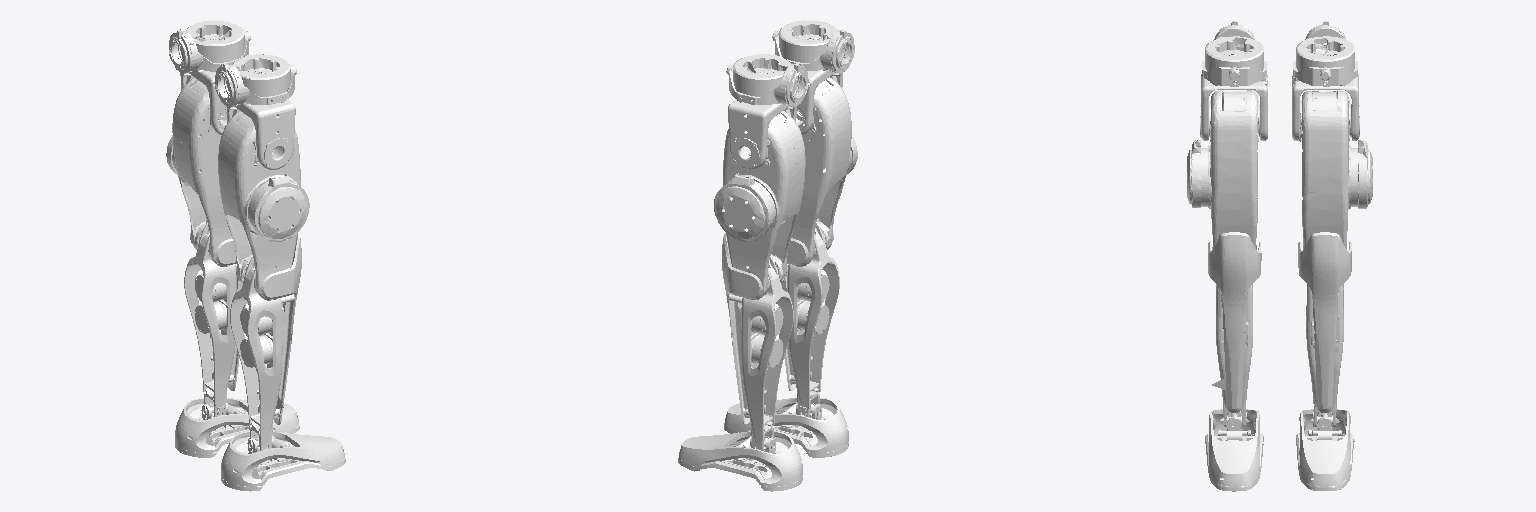
robot.urdf — biped_s31:
<?xml version='1.0' encoding='utf-8'?>
<robot name="biped_s31">
  <mujoco>
    <compiler meshdir="../meshes/" balanceinertia="true" discardvisual="false" />
  </mujoco>
  <link name="dummy_link" />
  <link name="base_link">
    <inertial>
      <origin xyz="-0.00505 0.0014 0.18077" rpy="0 0 0" />
      <mass value="25.4544" />
      <inertia ixx="0.28214" ixy="3e-05" ixz="0.01114" iyy="0.20534" iyz="0.00044" izz="0.13735" />
    </inertial>
    <visual>
      <origin xyz="0 0 0" rpy="0 0 0" />
      <geometry>
        <mesh filename="package://kuavo_assets/models/biped_s41/meshes/base_link.STL" />
      </geometry>
      <material name="">
        <color rgba="1 1 1 1" />
      </material>
    </visual>
  </link>
  <joint name="dummy_to_base_link" type="fixed">
    <origin xyz="0 0 0" rpy="0 0 0" />
    <parent link="dummy_link" />
    <child link="base_link" />
  </joint>
  <link name="leg_l1_link">
    <inertial>
      <origin xyz="-0.00430148 -2.708e-05 -0.00851195" rpy="0 0 0" />
      <mass value="1.71093115" />
      <inertia ixx="0.00206092" ixy="1.97e-06" ixz="6.944e-05" iyy="0.00277274" iyz="-5.1e-06" izz="0.00370826" />
    </inertial>
    <visual>
      <origin xyz="0 0 0" rpy="0 0 0" />
      <geometry>
        <mesh filename="package://kuavo_assets/models/biped_s41/meshes/l_leg_roll.STL" />
      </geometry>
      <material name="">
        <color rgba="1 1 1 1" />
      </material>
    </visual>
  </link>
  <joint name="leg_l1_joint" type="revolute">
    <origin xyz="-0.0025 0.087 -0.066" rpy="0 0 0" />
    <parent link="base_link" />
    <child link="leg_l1_link" />
    <axis xyz="1 0 0" />
    <limit lower="-0.314159265358979" upper="0.663225115757845" effort="180.0" velocity="23.55" />
  </joint>
  <link name="leg_l2_link">
    <inertial>
      <origin xyz="0.0 -0.00231118 -0.09062539" rpy="0 0 0" />
      <mass value="0.58029165" />
      <inertia ixx="0.00223984" ixy="0.0" ixz="3e-08" iyy="0.00123175" iyz="-6.98e-06" izz="0.00146391" />
    </inertial>
    <visual>
      <origin xyz="0 0 0" rpy="0 0 0" />
      <geometry>
        <mesh filename="package://kuavo_assets/models/biped_s41/meshes/l_leg_yaw.STL" />
      </geometry>
      <material name="">
        <color rgba="1 1 1 1" />
      </material>
    </visual>
  </link>
  <joint name="leg_l2_joint" type="revolute">
    <origin xyz="0 0 0" rpy="0 0 0" />
    <parent link="leg_l1_link" />
    <child link="leg_l2_link" />
    <axis xyz="0 0 1" />
    <limit lower="-0.872664625997165" upper="0.785398163397448" effort="100.0" velocity="41.3433333333333" />
  </joint>
  <link name="leg_l3_link">
    <inertial>
      <origin xyz="0.00150537 0.01199614 -0.08411619" rpy="0 0 0" />
      <mass value="4.50393141" />
      <inertia ixx="0.0389365" ixy="7.866e-05" ixz="0.00102086" iyy="0.03942609" iyz="0.00219138" izz="0.00999961" />
    </inertial>
    <visual>
      <origin xyz="0 0 0" rpy="0 0 0" />
      <geometry>
        <mesh filename="package://kuavo_assets/models/biped_s41/meshes/l_leg_pitch.STL" />
      </geometry>
      <material name="">
        <color rgba="1 1 1 1" />
      </material>
    </visual>
  </link>
  <joint name="leg_l3_joint" type="revolute">
    <origin xyz="0.000500354536093913 -0.00100000000000011 -0.1287" rpy="0 0 0" />
    <parent link="leg_l2_link" />
    <child link="leg_l3_link" />
    <axis xyz="0 1 0" />
    <limit lower="-2.00712863979348" upper="1.5707963267949" effort="100.0" velocity="41.3433333333333" />
  </joint>
  <link name="leg_l4_link">
    <inertial>
      <origin xyz="0.00696242 5.314e-05 -0.11549851" rpy="0 0 0" />
      <mass value="1.62776815" />
      <inertia ixx="0.01243912" ixy="-2.29e-06" ixz="5.881e-05" iyy="0.01229563" iyz="-2.895e-05" izz="0.00097937" />
    </inertial>
    <visual>
      <origin xyz="0 0 0" rpy="0 0 0" />
      <geometry>
        <mesh filename="package://kuavo_assets/models/biped_s41/meshes/l_knee.STL" />
      </geometry>
      <material name="">
        <color rgba="1 1 1 1" />
      </material>
    </visual>
  </link>
  <joint name="leg_l4_joint" type="revolute">
    <origin xyz="-6.87185435835039E-05 0 -0.284" rpy="0 0 0" />
    <parent link="leg_l3_link" />
    <child link="leg_l4_link" />
    <axis xyz="0 1 0" />
    <limit lower="0.0" upper="2.53072741539178" effort="180.0" velocity="23.55" />
  </joint>
  <link name="leg_l5_link">
    <inertial>
      <origin xyz="0.0 0.0 0.0" rpy="0 0 0" />
      <mass value="0.07193524" />
      <inertia ixx="6.92e-06" ixy="0.0" ixz="0.0" iyy="6.92e-06" iyz="0.0" izz="1.218e-05" />
    </inertial>
    <visual>
      <origin xyz="0 0 0" rpy="0 0 0" />
      <geometry>
        <mesh filename="package://kuavo_assets/models/biped_s41/meshes/l_foot_pitch.STL" />
      </geometry>
      <material name="">
        <color rgba="1 1 1 1" />
      </material>
    </visual>
  </link>
  <joint name="leg_l5_joint" type="revolute">
    <origin xyz="-0.000431635992531742 0 -0.346000000000001" rpy="0 0 0" />
    <parent link="leg_l4_link" />
    <child link="leg_l5_link" />
    <axis xyz="0 1 0" />
    <limit lower="-0.872664625997165" upper="0.349065850398866" effort="36.0" velocity="23.0266666666667" />
  </joint>
  <link name="leg_l6_link">
    <inertial>
      <origin xyz="0.03732754 -2.22e-06 -0.03883977" rpy="0 0 0" />
      <mass value="0.49861272" />
      <inertia ixx="0.00039242" ixy="3e-08" ixz="4.664e-05" iyy="0.00158655" iyz="0.0" izz="0.00172576" />
    </inertial>
    <visual>
      <origin xyz="0 0 0" rpy="0 0 0" />
      <geometry>
        <mesh filename="package://kuavo_assets/models/biped_s41/meshes/l_foot_roll.STL" />
      </geometry>
      <material name="">
        <color rgba="1 1 1 1" />
      </material>
    </visual>
  </link>
  <joint name="leg_l6_joint" type="revolute">
    <origin xyz="0 0 0" rpy="0 0 0" />
    <parent link="leg_l5_link" />
    <child link="leg_l6_link" />
    <axis xyz="1 0 0" />
    <limit lower="-0.261799387799149" upper="0.261799387799149" effort="36.0" velocity="23.0266666666667" />
  </joint>
  <link name="ll_foot_toe">
    <collision>
      <origin rpy="0 0 0" xyz="0 0 0" />
      <geometry>
        <sphere radius="0.005" />
      </geometry>
    </collision>
  </link>
  <joint name="ll_foot_toe_joint" type="fixed">
    <origin xyz="0.17084 0.04773 -0.0595" rpy="0 0 0" />
    <parent link="leg_l6_link" />
    <child link="ll_foot_toe" />
  </joint>
  <link name="ll_foot_heel">
    <collision>
      <origin rpy="0 0 0" xyz="0 0 0" />
      <geometry>
        <sphere radius="0.005" />
      </geometry>
    </collision>
  </link>
  <joint name="ll_foot_heel_joint" type="fixed">
    <origin xyz="-0.073164 0.04773 -0.0595" rpy="0 0 0" />
    <parent link="leg_l6_link" />
    <child link="ll_foot_heel" />
  </joint>
  <link name="lr_foot_toe">
    <collision>
      <origin rpy="0 0 0" xyz="0 0 0" />
      <geometry>
        <sphere radius="0.005" />
      </geometry>
    </collision>
  </link>
  <joint name="lr_foot_toe_joint" type="fixed">
    <origin xyz="0.17084 -0.04773 -0.0595" rpy="0 0 0" />
    <parent link="leg_l6_link" />
    <child link="lr_foot_toe" />
  </joint>
  <link name="lr_foot_heel">
    <collision>
      <origin rpy="0 0 0" xyz="0 0 0" />
      <geometry>
        <sphere radius="0.005" />
      </geometry>
    </collision>
  </link>
  <joint name="lr_foot_heel_joint" type="fixed">
    <origin xyz="-0.073164 -0.04773 -0.0595" rpy="0 0 0" />
    <parent link="leg_l6_link" />
    <child link="lr_foot_heel" />
  </joint>
  <link name="l_foot_toe">
    <collision>
      <origin rpy="0 0 0" xyz="0 0 0" />
      <geometry>
        <sphere radius="0.005" />
      </geometry>
    </collision>
  </link>
  <joint name="l_foot_toe_joint" type="fixed">
    <origin xyz="0.17084 0.0 -0.0595" rpy="0 0 0" />
    <parent link="leg_l6_link" />
    <child link="l_foot_toe" />
  </joint>
  <link name="l_foot_heel">
    <collision>
      <origin rpy="0 0 0" xyz="0 0 0" />
      <geometry>
        <sphere radius="0.005" />
      </geometry>
    </collision>
  </link>
  <joint name="l_foot_heel_joint" type="fixed">
    <origin xyz="-0.073164 0.0 -0.0595" rpy="0 0 0" />
    <parent link="leg_l6_link" />
    <child link="l_foot_heel" />
  </joint>
  <link name="leg_r1_link">
    <inertial>
      <origin xyz="-0.00430146 2.709e-05 -0.00851195" rpy="0 0 0" />
      <mass value="1.71093008" />
      <inertia ixx="0.00206092" ixy="-1.97e-06" ixz="6.944e-05" iyy="0.00277274" iyz="5.1e-06" izz="0.00370826" />
    </inertial>
    <visual>
      <origin xyz="0 0 0" rpy="0 0 0" />
      <geometry>
        <mesh filename="package://kuavo_assets/models/biped_s41/meshes/r_leg_roll.STL" />
      </geometry>
      <material name="">
        <color rgba="1 1 1 1" />
      </material>
    </visual>
  </link>
  <joint name="leg_r1_joint" type="revolute">
    <origin xyz="-0.0025 -0.087 -0.066" rpy="0 0 0" />
    <parent link="base_link" />
    <child link="leg_r1_link" />
    <axis xyz="1 0 0" />
    <limit lower="-0.663225115757845" upper="0.314159265358979" effort="180.0" velocity="23.55" />
  </joint>
  <link name="leg_r2_link">
    <inertial>
      <origin xyz="0.0 0.00231118 -0.09062539" rpy="0 0 0" />
      <mass value="0.58029165" />
      <inertia ixx="0.00223984" ixy="0.0" ixz="-3e-08" iyy="0.00123175" iyz="6.98e-06" izz="0.00146391" />
    </inertial>
    <visual>
      <origin xyz="0 0 0" rpy="0 0 0" />
      <geometry>
        <mesh filename="package://kuavo_assets/models/biped_s41/meshes/r_leg_yaw.STL" />
      </geometry>
      <material name="">
        <color rgba="1 1 1 1" />
      </material>
    </visual>
  </link>
  <joint name="leg_r2_joint" type="revolute">
    <origin xyz="0 0 0" rpy="0 0 0" />
    <parent link="leg_r1_link" />
    <child link="leg_r2_link" />
    <axis xyz="0 0 1" />
    <limit lower="-0.785398163397448" upper="0.872664625997165" effort="100.0" velocity="41.3433333333333" />
  </joint>
  <link name="leg_r3_link">
    <inertial>
      <origin xyz="0.00208315 -0.01199644 -0.08411379" rpy="0 0 0" />
      <mass value="4.50385993" />
      <inertia ixx="0.03893478" ixy="-7.792e-05" ixz="0.00103064" iyy="0.03942522" iyz="-0.00219154" izz="0.01000016" />
    </inertial>
    <visual>
      <origin xyz="0 0 0" rpy="0 0 0" />
      <geometry>
        <mesh filename="package://kuavo_assets/models/biped_s41/meshes/r_leg_pitch.STL" />
      </geometry>
      <material name="">
        <color rgba="1 1 1 1" />
      </material>
    </visual>
  </link>
  <joint name="leg_r3_joint" type="revolute">
    <origin xyz="-4.88006581312577E-05 0 -0.1287" rpy="0 0 0" />
    <parent link="leg_r2_link" />
    <child link="leg_r3_link" />
    <axis xyz="0 1 0" />
    <limit lower="-2.00712863979348" upper="1.5707963267949" effort="100.0" velocity="41.3433333333333" />
  </joint>
  <link name="leg_r4_link">
    <inertial>
      <origin xyz="0.00743231 -5.343e-05 -0.11558701" rpy="0 0 0" />
      <mass value="1.62655699" />
      <inertia ixx="0.01241258" ixy="2.28e-06" ixz="6.289e-05" iyy="0.0122692" iyz="2.902e-05" izz="0.00097927" />
    </inertial>
    <visual>
      <origin xyz="0 0 0" rpy="0 0 0" />
      <geometry>
        <mesh filename="package://kuavo_assets/models/biped_s41/meshes/r_knee.STL" />
      </geometry>
      <material name="">
        <color rgba="1 1 1 1" />
      </material>
    </visual>
  </link>
  <joint name="leg_r4_joint" type="revolute">
    <origin xyz="0.000147138572785148 0 -0.283999982974744" rpy="0 0 0" />
    <parent link="leg_r3_link" />
    <child link="leg_r4_link" />
    <axis xyz="0 1 0" />
    <limit lower="0.0" upper="2.53072741539178" effort="180.0" velocity="23.55" />
  </joint>
  <link name="leg_r5_link">
    <inertial>
      <origin xyz="0.0 0.0 0.0" rpy="0 0 0" />
      <mass value="0.07193524" />
      <inertia ixx="6.92e-06" ixy="0.0" ixz="0.0" iyy="6.92e-06" iyz="0.0" izz="1.218e-05" />
    </inertial>
    <visual>
      <origin xyz="0 0 0" rpy="0 0 0" />
      <geometry>
        <mesh filename="package://kuavo_assets/models/biped_s41/meshes/r_foot_pitch.STL" />
      </geometry>
      <material name="">
        <color rgba="1 1 1 1" />
      </material>
    </visual>
  </link>
  <joint name="leg_r5_joint" type="revolute">
    <origin xyz="0.000119806050928577 0 -0.345999979257963" rpy="0 0 0" />
    <parent link="leg_r4_link" />
    <child link="leg_r5_link" />
    <axis xyz="0 1 0" />
    <limit lower="-0.872664625997165" upper="0.349065850398866" effort="36.0" velocity="23.0266666666667" />
  </joint>
  <link name="leg_r6_link">
    <inertial>
      <origin xyz="0.03734098 -2.22e-06 -0.03882684" rpy="0 0 0" />
      <mass value="0.49861272" />
      <inertia ixx="0.00039238" ixy="3e-08" ixz="4.618e-05" iyy="0.00158655" iyz="0.0" izz="0.00172579" />
    </inertial>
    <visual>
      <origin xyz="0 0 0" rpy="0 0 0" />
      <geometry>
        <mesh filename="package://kuavo_assets/models/biped_s41/meshes/r_foot_roll.STL" />
      </geometry>
      <material name="">
        <color rgba="1 1 1 1" />
      </material>
    </visual>
  </link>
  <joint name="leg_r6_joint" type="revolute">
    <origin xyz="0 0 0" rpy="0 0 0" />
    <parent link="leg_r5_link" />
    <child link="leg_r6_link" />
    <axis xyz="1 0 0" />
    <limit lower="-0.261799387799149" upper="0.261799387799149" effort="36.0" velocity="23.0266666666667" />
  </joint>
  <link name="rl_foot_toe">
    <collision>
      <origin rpy="0 0 0" xyz="0 0 0" />
      <geometry>
        <sphere radius="0.005" />
      </geometry>
    </collision>
  </link>
  <joint name="rl_foot_toe_joint" type="fixed">
    <origin xyz="0.17084 0.04773 -0.0595" rpy="0 0 0" />
    <parent link="leg_r6_link" />
    <child link="rl_foot_toe" />
  </joint>
  <link name="rl_foot_heel">
    <collision>
      <origin rpy="0 0 0" xyz="0 0 0" />
      <geometry>
        <sphere radius="0.005" />
      </geometry>
    </collision>
  </link>
  <joint name="rl_foot_heel_joint" type="fixed">
    <origin xyz="-0.073164 0.04773 -0.0595" rpy="0 0 0" />
    <parent link="leg_r6_link" />
    <child link="rl_foot_heel" />
  </joint>
  <link name="rr_foot_toe">
    <collision>
      <origin rpy="0 0 0" xyz="0 0 0" />
      <geometry>
        <sphere radius="0.005" />
      </geometry>
    </collision>
  </link>
  <joint name="rr_foot_toe_joint" type="fixed">
    <origin xyz="0.17084 -0.04773 -0.0595" rpy="0 0 0" />
    <parent link="leg_r6_link" />
    <child link="rr_foot_toe" />
  </joint>
  <link name="rr_foot_heel">
    <collision>
      <origin rpy="0 0 0" xyz="0 0 0" />
      <geometry>
        <sphere radius="0.005" />
      </geometry>
    </collision>
  </link>
  <joint name="rr_foot_heel_joint" type="fixed">
    <origin xyz="-0.073164 -0.04773 -0.0595" rpy="0 0 0" />
    <parent link="leg_r6_link" />
    <child link="rr_foot_heel" />
  </joint>
  <link name="r_foot_toe">
    <collision>
      <origin rpy="0 0 0" xyz="0 0 0" />
      <geometry>
        <sphere radius="0.005" />
      </geometry>
    </collision>
  </link>
  <joint name="r_foot_toe_joint" type="fixed">
    <origin xyz="0.17084 0.0 -0.0595" rpy="0 0 0" />
    <parent link="leg_r6_link" />
    <child link="r_foot_toe" />
  </joint>
  <link name="r_foot_heel">
    <collision>
      <origin rpy="0 0 0" xyz="0 0 0" />
      <geometry>
        <sphere radius="0.005" />
      </geometry>
    </collision>
  </link>
  <joint name="r_foot_heel_joint" type="fixed">
    <origin xyz="-0.073164 0.0 -0.0595" rpy="0 0 0" />
    <parent link="leg_r6_link" />
    <child link="r_foot_heel" />
  </joint>
  <link name="zarm_l1_link">
    <inertial>
      <origin xyz="0.008 -0.00158 0.0036" rpy="0 0 0" />
      <mass value="1.15" />
      <inertia ixx="0.0006" ixy="5e-05" ixz="1e-05" iyy="0.00048" iyz="-6e-05" izz="0.0007" />
    </inertial>
    <visual>
      <origin xyz="0 0 0" rpy="0 0 0" />
      <geometry>
        <mesh filename="package://kuavo_assets/models/biped_s41/meshes/l_arm_pitch.STL" />
      </geometry>
      <material name="">
        <color rgba="1 1 1 1" />
      </material>
    </visual>
  </link>
  <joint name="zarm_l1_joint" type="revolute">
    <origin xyz="-0.0175 0.25886 0.3245" rpy="0 0 0" />
    <parent link="base_link" />
    <child link="zarm_l1_link" />
    <axis xyz="0 1 0" />
    <limit lower="-2.61799387799149" upper="0.523598775598299" effort="100.0" velocity="41.3433333333333" />
  </joint>
  <link name="zarm_r1_link">
    <inertial>
      <origin xyz="0.008 0.00158 -0.0036" rpy="0 0 0" />
      <mass value="1.15" />
      <inertia ixx="0.0006" ixy="-5e-05" ixz="-1e-05" iyy="0.00048" iyz="-6e-05" izz="0.0007" />
    </inertial>
    <visual>
      <origin xyz="0 0 0" rpy="0 0 0" />
      <geometry>
        <mesh filename="package://kuavo_assets/models/biped_s41/meshes/r_arm_pitch.STL" />
      </geometry>
      <material name="">
        <color rgba="1 1 1 1" />
      </material>
    </visual>
  </link>
  <joint name="zarm_r1_joint" type="revolute">
    <origin xyz="-0.0175 -0.25886 0.3245" rpy="0 0 0" />
    <parent link="base_link" />
    <child link="zarm_r1_link" />
    <axis xyz="0 1 0" />
    <limit lower="-2.61799387799149" upper="0.523598775598299" effort="100.0" velocity="41.3433333333333" />
  </joint>
</robot>

--- Render facts (derived) ---
3 views of the same robot in one strip: view 1: azimuth 30°, elevation 25°; view 2: azimuth 150°, elevation 25°; view 3: azimuth 270°, elevation 25° (orthographic).
Robot: biped_s31 — 28 links, 27 joints (14 revolute, 13 fixed); root link dummy_link; default pose: all joints at 0.
Links seen in each view (by area): view 1: leg_r3_link, leg_r4_link, leg_l4_link, leg_l3_link, leg_r6_link, leg_l6_link, leg_r1_link, leg_l1_link, leg_r2_link, leg_l2_link; view 2: leg_l3_link, leg_l4_link, leg_r4_link, leg_r3_link, leg_l6_link, leg_r6_link, leg_l1_link, leg_r1_link, leg_l2_link, leg_r2_link; view 3: leg_l3_link, leg_r3_link, leg_r4_link, leg_l4_link, leg_r6_link, leg_l6_link, leg_l1_link, leg_r1_link, leg_r2_link, leg_l2_link.
Boxes of the visible links, box(x1,y1,x2,y2) form: leg_r3_link: box(218, 111, 309, 300); leg_r4_link: box(230, 233, 301, 450); leg_l4_link: box(184, 222, 245, 416); leg_l3_link: box(166, 77, 231, 266); leg_r6_link: box(221, 431, 345, 491); leg_l6_link: box(175, 398, 299, 457); leg_r1_link: box(215, 54, 296, 107); leg_l1_link: box(169, 20, 250, 73); leg_r2_link: box(227, 100, 295, 169); leg_l2_link: box(180, 71, 226, 135); leg_l3_link: box(714, 111, 805, 299); leg_l4_link: box(722, 233, 793, 450); leg_r4_link: box(778, 222, 839, 417); leg_r3_link: box(791, 77, 857, 266); leg_l6_link: box(678, 431, 802, 491); leg_r6_link: box(724, 398, 848, 457); leg_l1_link: box(726, 54, 808, 107); leg_r1_link: box(772, 20, 854, 73); leg_l2_link: box(728, 99, 796, 169); leg_r2_link: box(797, 70, 842, 134); leg_l3_link: box(1300, 90, 1372, 249); leg_r3_link: box(1187, 90, 1258, 249); leg_r4_link: box(1208, 232, 1261, 426); leg_l4_link: box(1298, 232, 1351, 426); leg_r6_link: box(1205, 409, 1263, 491); leg_l6_link: box(1296, 409, 1354, 490); leg_l1_link: box(1293, 21, 1357, 86); leg_r1_link: box(1202, 21, 1266, 86); leg_r2_link: box(1200, 74, 1267, 140); leg_l2_link: box(1292, 74, 1359, 140).
Bounding box of the posed robot: 0.2597 × 0.3557 × 0.8751 m (x, y, z).
12 mesh visuals loaded from 15 distinct referenced files (12 binary STL); not drawn: 3 (reference not matched to a file when rendering).